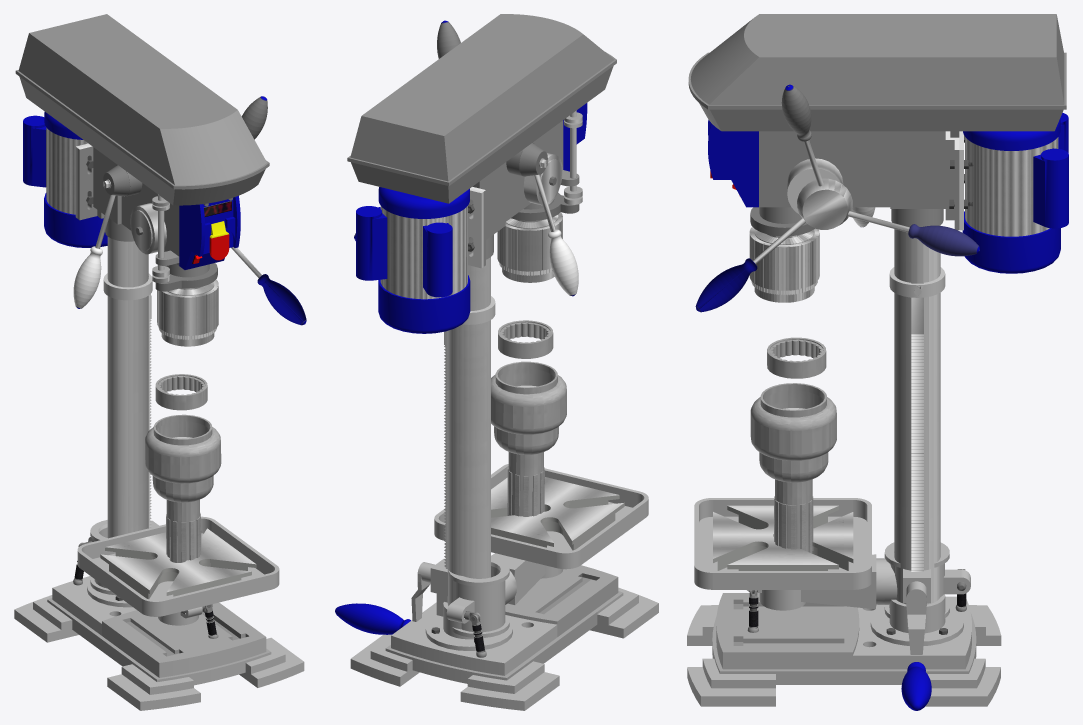
3 renders of one model, left to right at view 1: azimuth 30°, elevation 25°; view 2: azimuth 150°, elevation 25°; view 3: azimuth 270°, elevation 25°, orthographic. The views are drawn at different scales.
Visible parts, largest first — view 1: 01, 04, 1.003, 03, 02.001, 1.002; view 2: 01, 04, 1.003, 03, 1.002, 02.001; view 3: 01, 04, 1.003, 02.001, 03, 1.002.
Part boxes in pixels (left/top/right/bottom): 01: left=14, top=14, right=304, bottom=710; 04: left=73, top=516, right=279, bottom=638; 1.003: left=145, top=414, right=221, bottom=562; 03: left=157, top=279, right=218, bottom=346; 02.001: left=231, top=96, right=306, bottom=325; 1.002: left=155, top=374, right=207, bottom=410; 01: left=347, top=14, right=658, bottom=710; 04: left=335, top=464, right=648, bottom=657; 1.003: left=491, top=361, right=566, bottom=516; 03: left=497, top=212, right=562, bottom=282; 1.002: left=498, top=320, right=553, bottom=358; 02.001: left=354, top=20, right=460, bottom=240; 01: left=687, top=14, right=1068, bottom=706; 04: left=694, top=498, right=970, bottom=710; 1.003: left=750, top=383, right=836, bottom=553; 02.001: left=695, top=84, right=979, bottom=312; 03: left=749, top=226, right=819, bottom=302; 1.002: left=767, top=337, right=826, bottom=378.
Bounding box in the file's own units: 485 × 1225 × 676.
40 materials, 12 textured.
